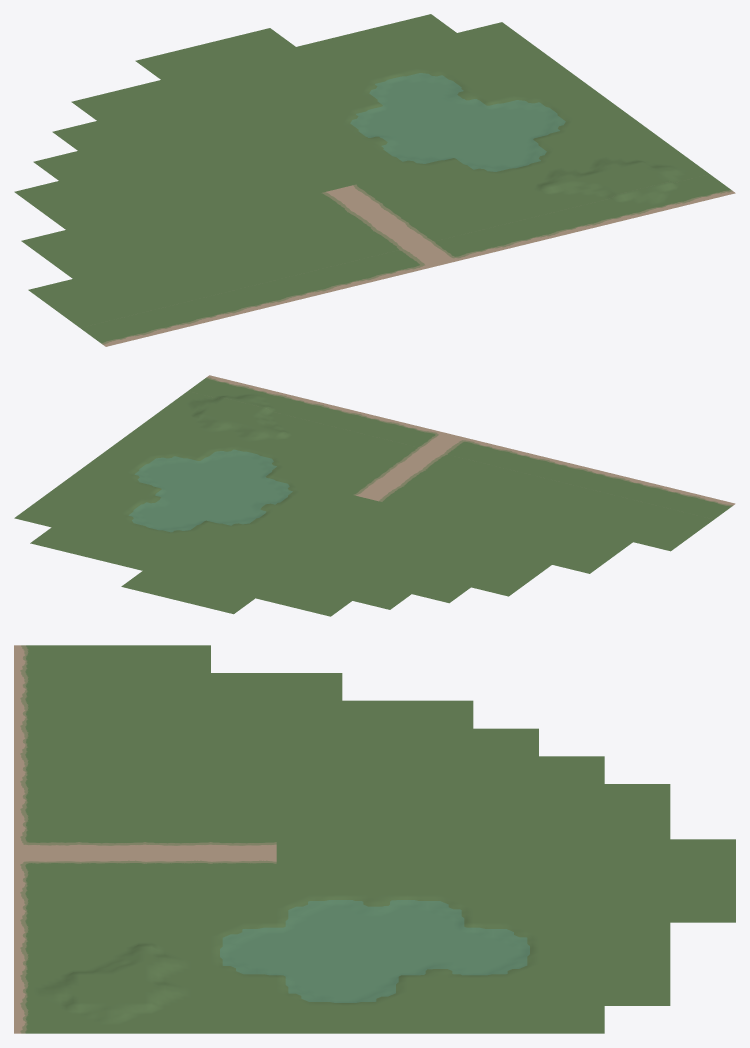
Rendered from Cabin_Quarter.fbx.
3 renders of one model, top to bottom at view 1: azimuth 30°, elevation 25°; view 2: azimuth 150°, elevation 25°; view 3: azimuth 270°, elevation 25°, orthographic. The views are drawn at different scales.
Visible parts, largest first — view 1: pPlane734; view 2: pPlane734; view 3: pPlane734.
Boxes of the visible parts, x1,y1,x2,y2 form: pPlane734: (14, 14, 735, 346); pPlane734: (14, 375, 735, 616); pPlane734: (14, 645, 735, 1033).
Bounding box in the file's own units: 140 × 1 × 110.
